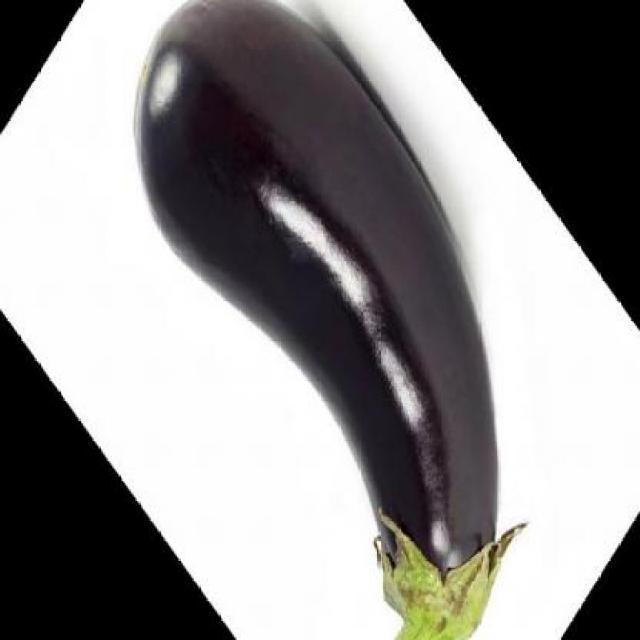eggplant: (124, 0, 538, 635)
